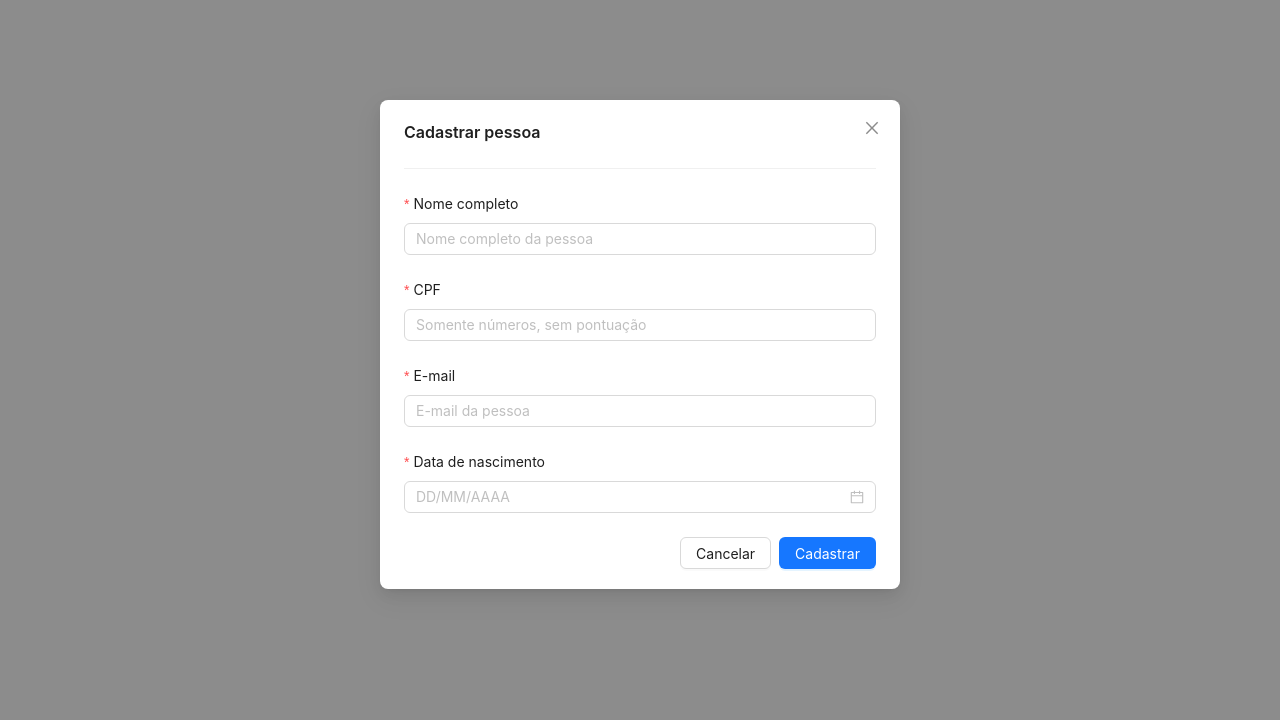
Scenario: CreatePersonModal › exibe mensagem de validação de data ao receber 422 com birth date inválida
Type "Ana Silva" into the field labelled "Nome completo".
click(640, 239); type("Ana Silva")  # box [404, 223, 876, 255]
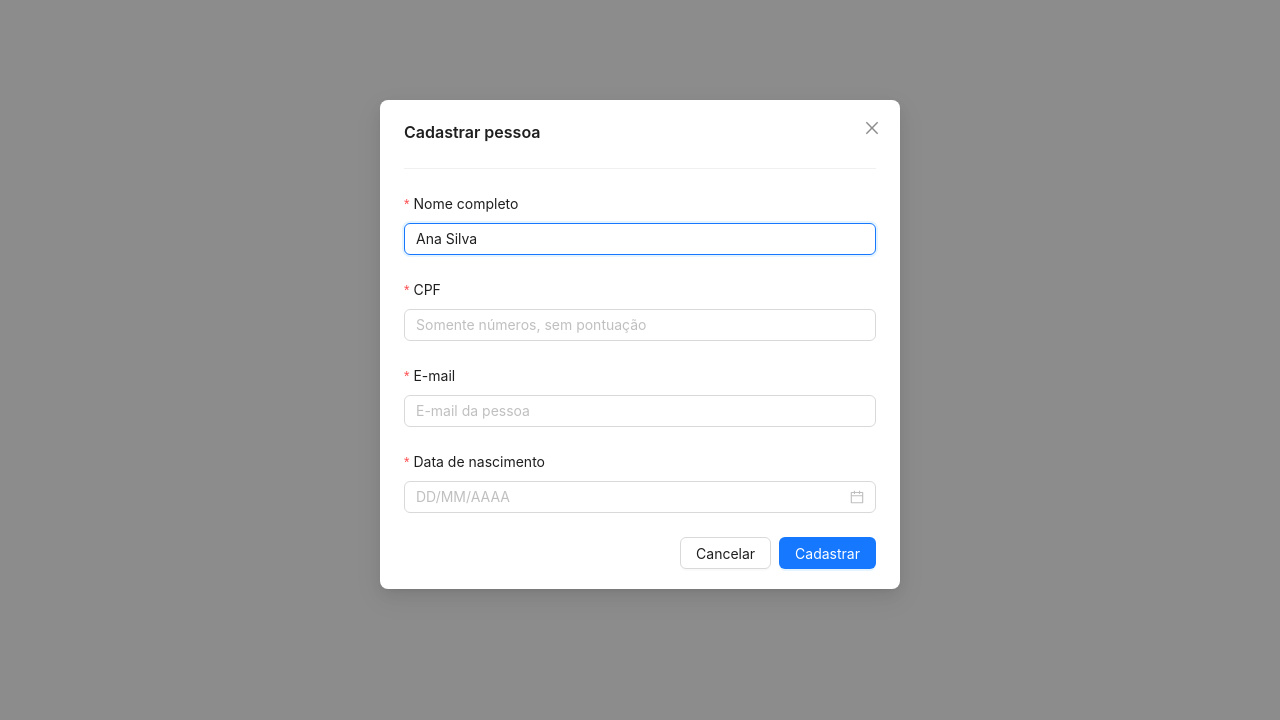
Type "52998224725" into the field labelled "CPF".
click(640, 325); type("52998224725")  # box [404, 309, 876, 341]
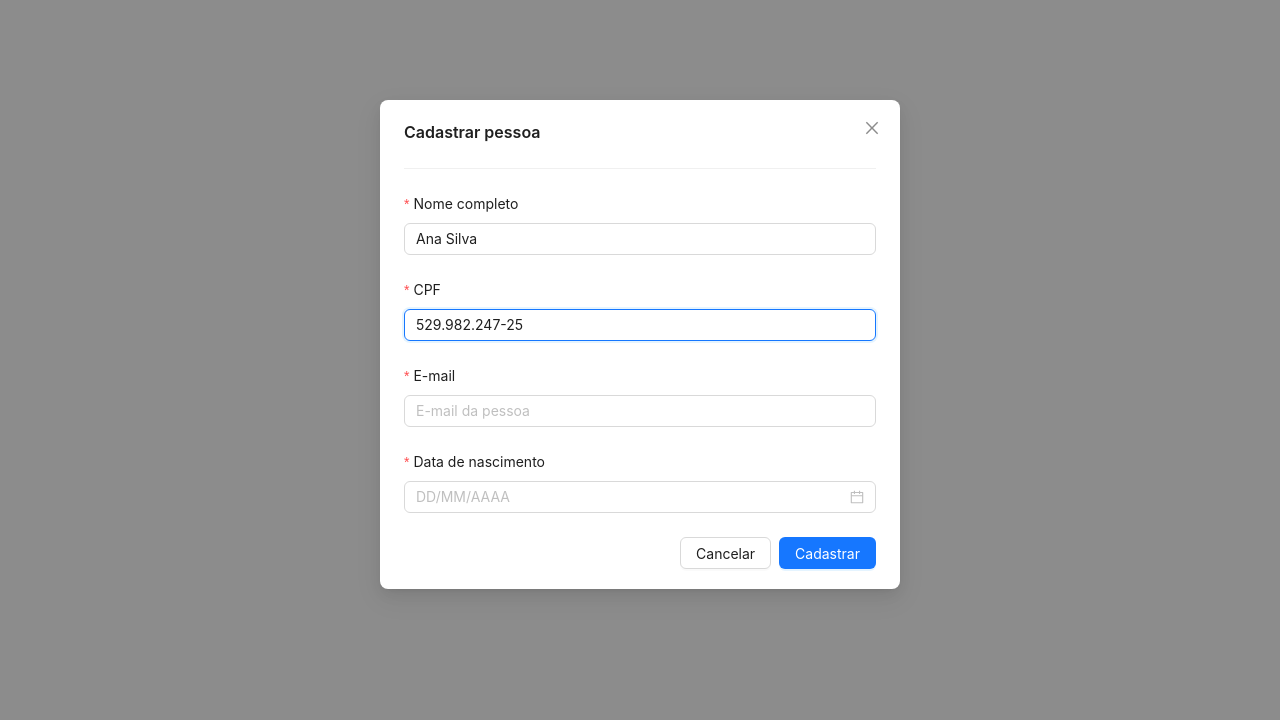
Type "ana@example.com" into the field labelled "E-mail".
click(640, 411); type("ana@example.com")  # box [404, 395, 876, 427]
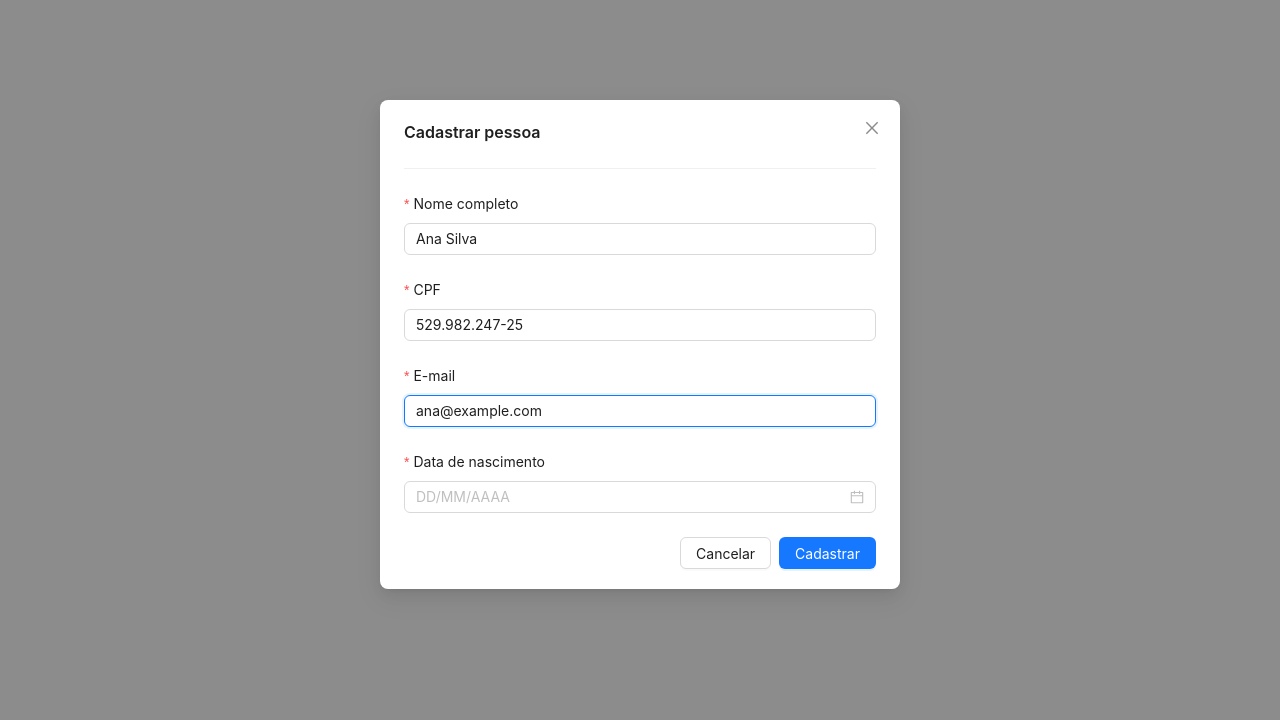
Click the field with placeholder "DD/MM/AAAA".
click(631, 497)  # box [416, 486, 846, 508]
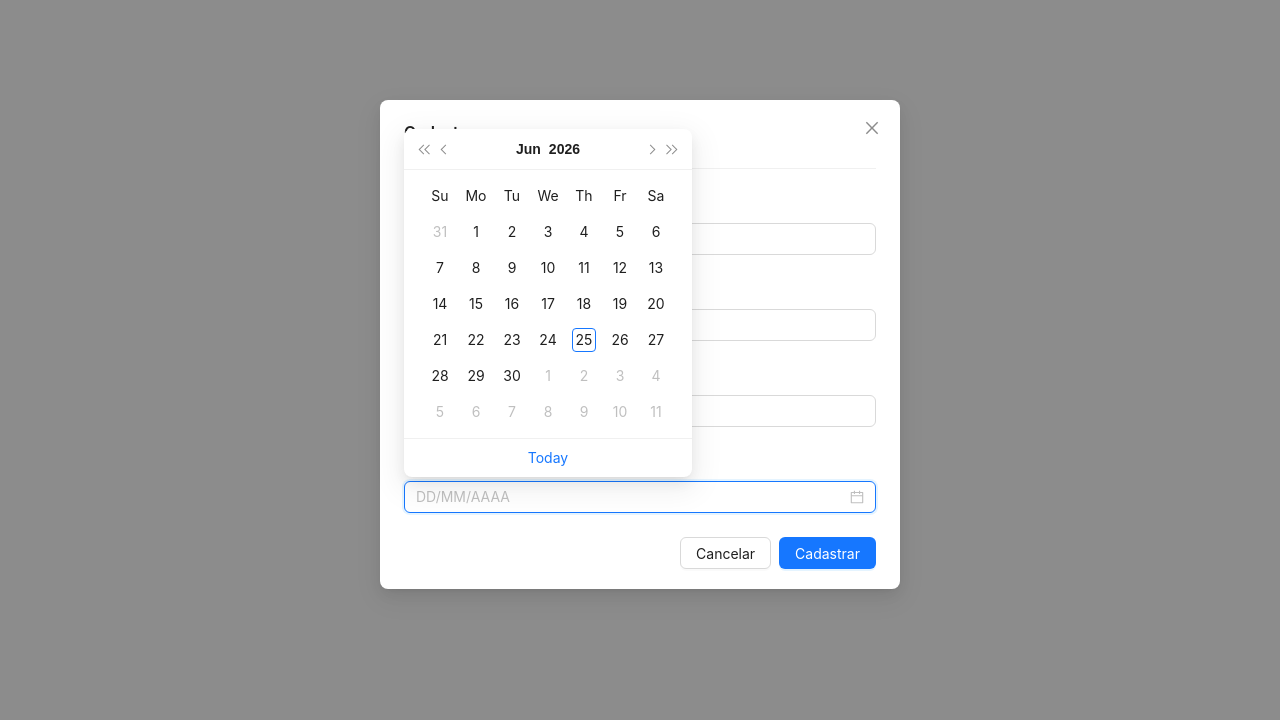
Type keys "15/03/1990{Enter}"
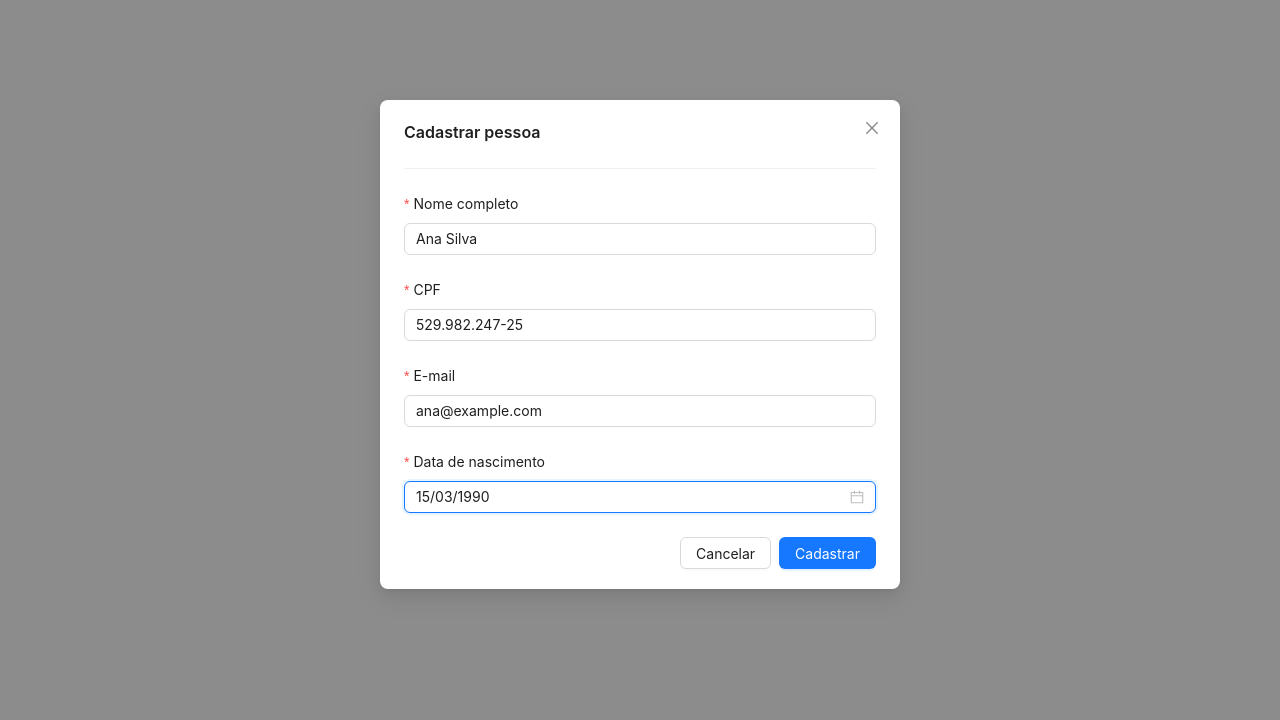
Click the button "Cadastrar".
click(828, 553)  # box [779, 537, 876, 569]
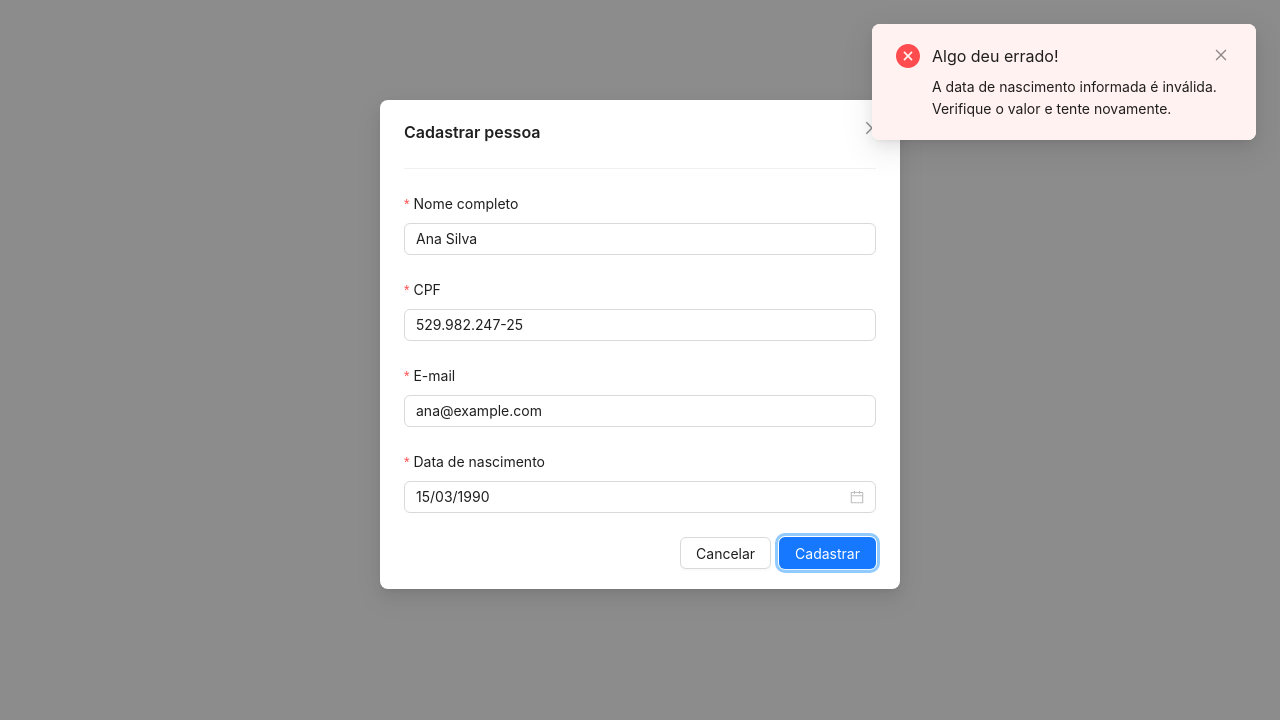
Check: the text "A data de nascimento informada é inválida. Verifique o valor e tente novamente." is shown, box [932, 76, 1232, 120]
